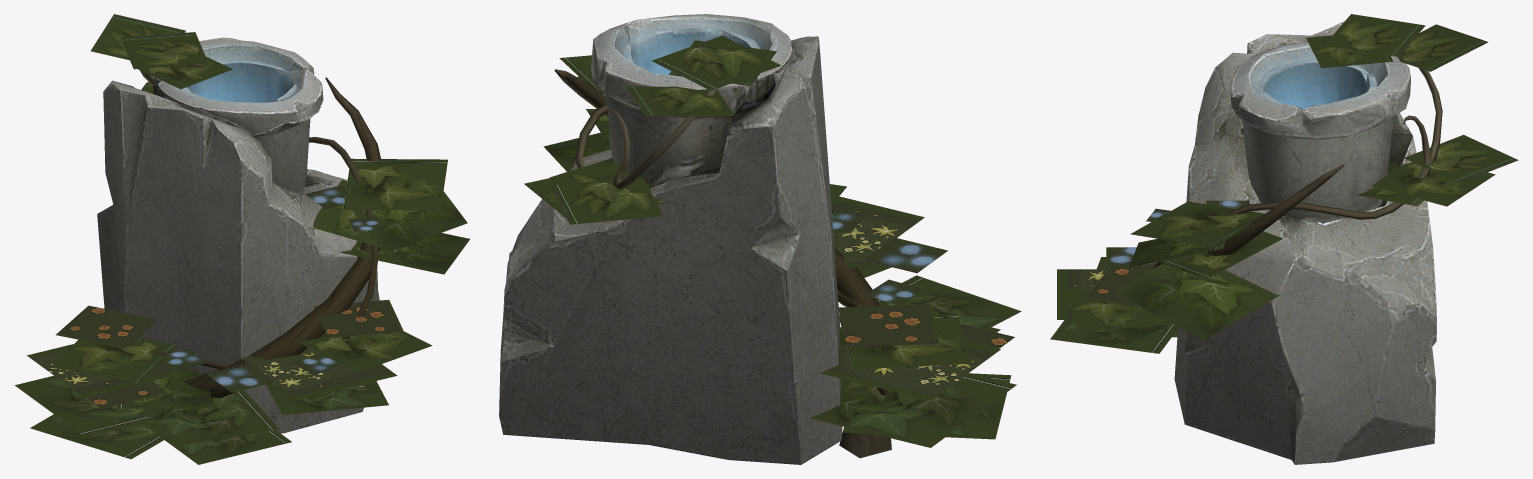
The model's file is radiant_statue001.fbx.
3 renders of one model, left to right at view 1: azimuth 30°, elevation 25°; view 2: azimuth 150°, elevation 25°; view 3: azimuth 270°, elevation 25°, orthographic. The views are drawn at different scales.
Parts seen in each view (by area): view 1: radiant_statue001; view 2: radiant_statue001; view 3: radiant_statue001.
Boxes of the visible parts, x1,y1,x2,y2 form: radiant_statue001: (15, 14, 469, 464); radiant_statue001: (499, 14, 1021, 464); radiant_statue001: (1050, 14, 1518, 464).
Bounding box in the file's own units: 25483 × 19561 × 24431.
